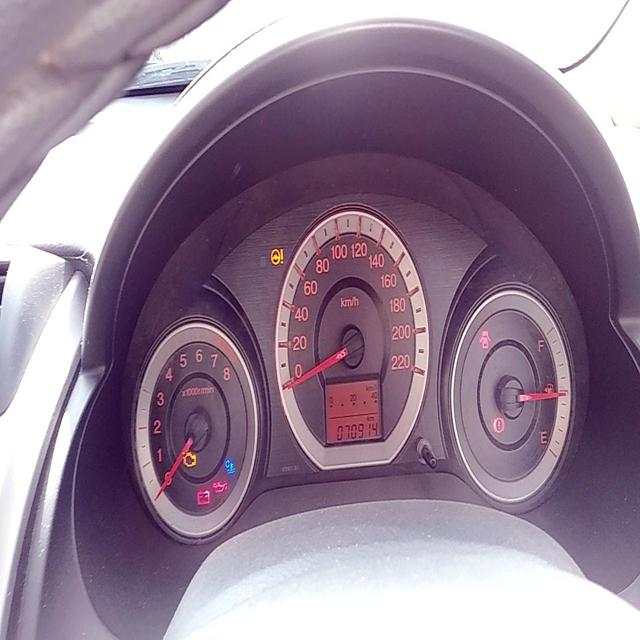odometer: (336, 417, 379, 444)
